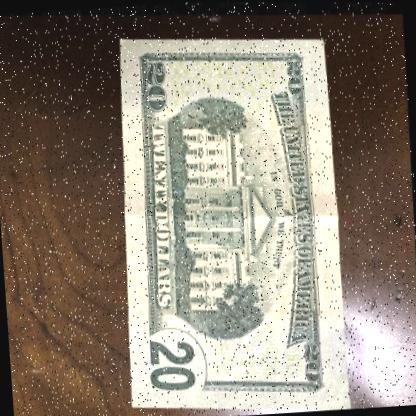dollar_back: (104, 21, 356, 416)
